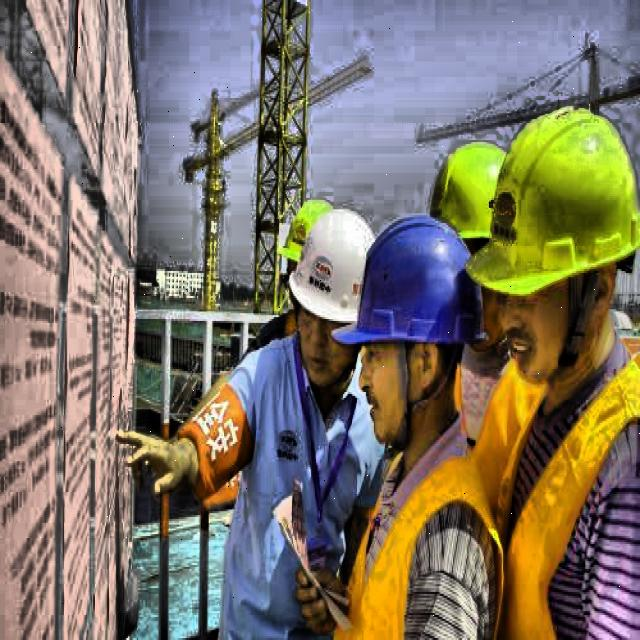helmet: (467, 90, 636, 400), (336, 196, 474, 438), (421, 134, 522, 356), (291, 207, 368, 371), (278, 190, 329, 280)
